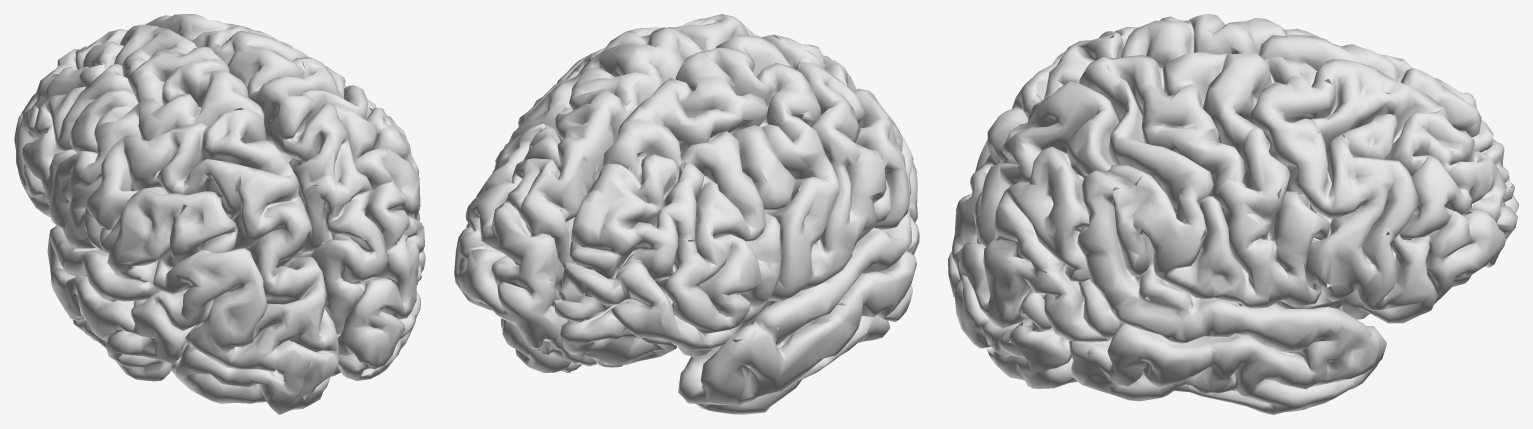
The model's file is brain.glb.
The picture shows the model from 3 angles, left to right: view 1: azimuth 30°, elevation 25°; view 2: azimuth 150°, elevation 25°; view 3: azimuth 270°, elevation 25°; orthographic projection. The views are drawn at different scales.
Visible parts, largest first — view 1: Optimized_Joined_NO_MATERIAL; view 2: Optimized_Joined_NO_MATERIAL; view 3: Optimized_Joined_NO_MATERIAL.
Part boxes in pixels (left/top/right/bottom): Optimized_Joined_NO_MATERIAL: left=14, top=14, right=425, bottom=414; Optimized_Joined_NO_MATERIAL: left=454, top=14, right=919, bottom=414; Optimized_Joined_NO_MATERIAL: left=948, top=14, right=1518, bottom=414.
Size of the model in its own units: 97.26 by 83.51 by 130.
1 material, 1 textured.
